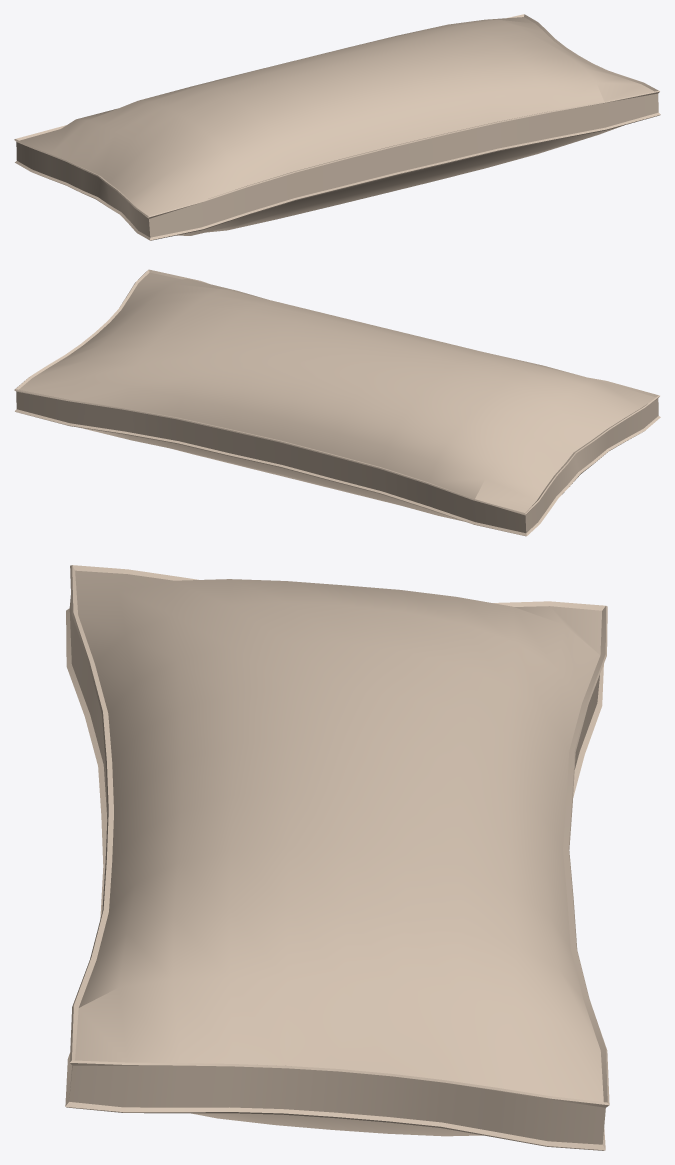
The model's file is Pillow_low.fbx.
3 renders of one model, top to bottom at view 1: azimuth 30°, elevation 25°; view 2: azimuth 150°, elevation 25°; view 3: azimuth 270°, elevation 25°, orthographic. The views are drawn at different scales.
Parts seen in each view (by area): view 1: Pillow_low; view 2: Pillow_low; view 3: Pillow_low.
Part boxes in pixels (left/top/right/bottom): Pillow_low: left=14, top=14, right=660, bottom=240; Pillow_low: left=14, top=269, right=660, bottom=536; Pillow_low: left=65, top=565, right=609, bottom=1150.
Bounding box in the file's own units: 79.83 × 17.75 × 36.74.
